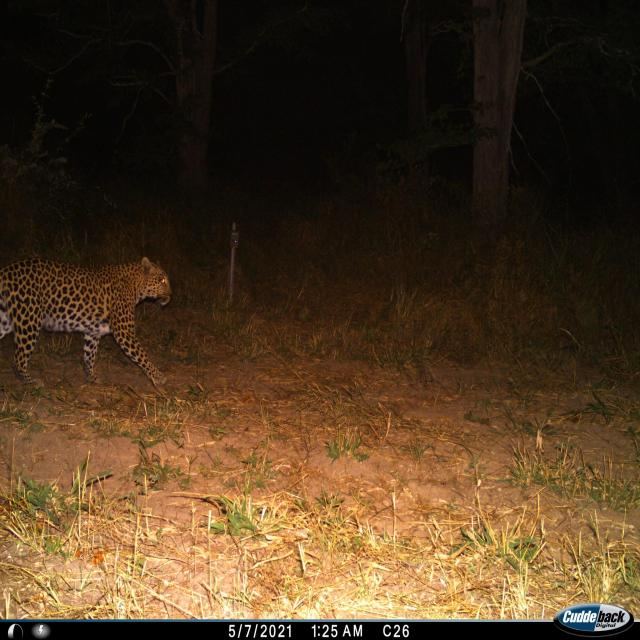Leopard: (0, 246, 182, 402)
